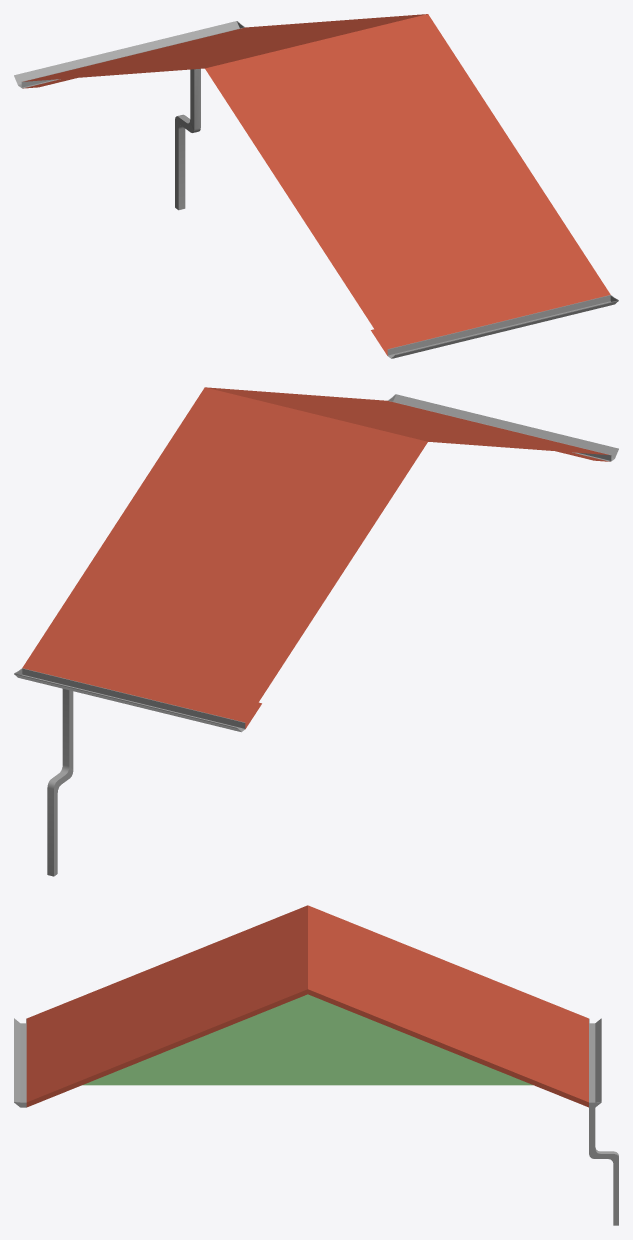
The model's file is MESH_ENV(Telhado_3x9_Ponta).fbx.
3 views of the same model, one above another, from view 1: azimuth 30°, elevation 25°; view 2: azimuth 150°, elevation 25°; view 3: azimuth 270°, elevation 25° (orthographic). The views are drawn at different scales.
Parts seen in each view (by area): view 1: MESH_ENV(Telhado_3x9_Ponta)_LOD0; view 2: MESH_ENV(Telhado_3x9_Ponta)_LOD0; view 3: MESH_ENV(Telhado_3x9_Ponta)_LOD0.
Part boxes in pixels (left/top/right/bottom): MESH_ENV(Telhado_3x9_Ponta)_LOD0: left=14, top=14, right=618, bottom=358; MESH_ENV(Telhado_3x9_Ponta)_LOD0: left=14, top=387, right=618, bottom=876; MESH_ENV(Telhado_3x9_Ponta)_LOD0: left=14, top=905, right=618, bottom=1225.
Size of the model in its own units: 350 by 493 by 1066.
